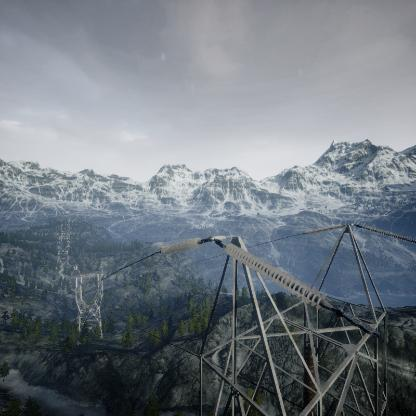insulator: (218, 241, 338, 313), (360, 224, 416, 245), (156, 234, 206, 256), (303, 223, 342, 234)
tower: (73, 262, 107, 340)
